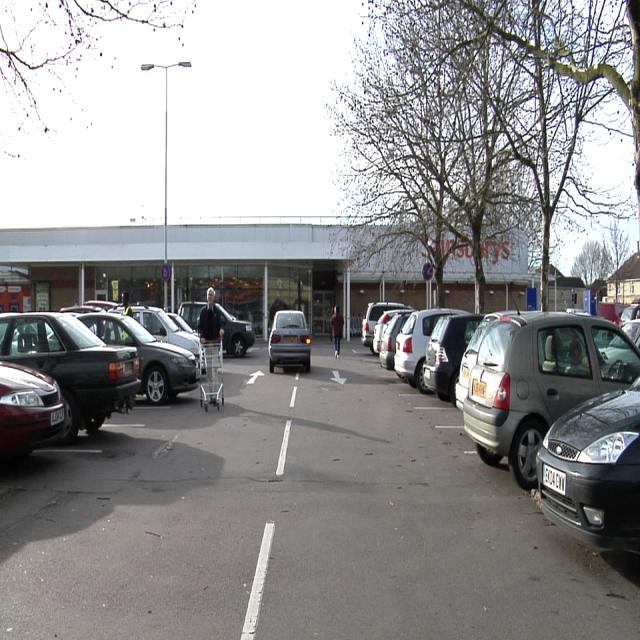Car: (395, 308, 640, 552), (0, 307, 200, 456), (362, 303, 412, 369), (270, 310, 311, 371), (219, 307, 255, 357), (180, 302, 205, 329)
Road: (0, 340, 640, 638)
person: (198, 287, 224, 342), (330, 307, 344, 358)
